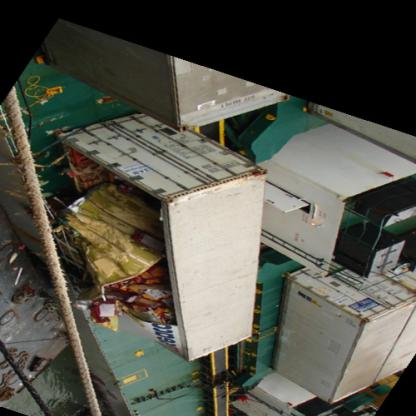Damage: (63, 160, 205, 354)
